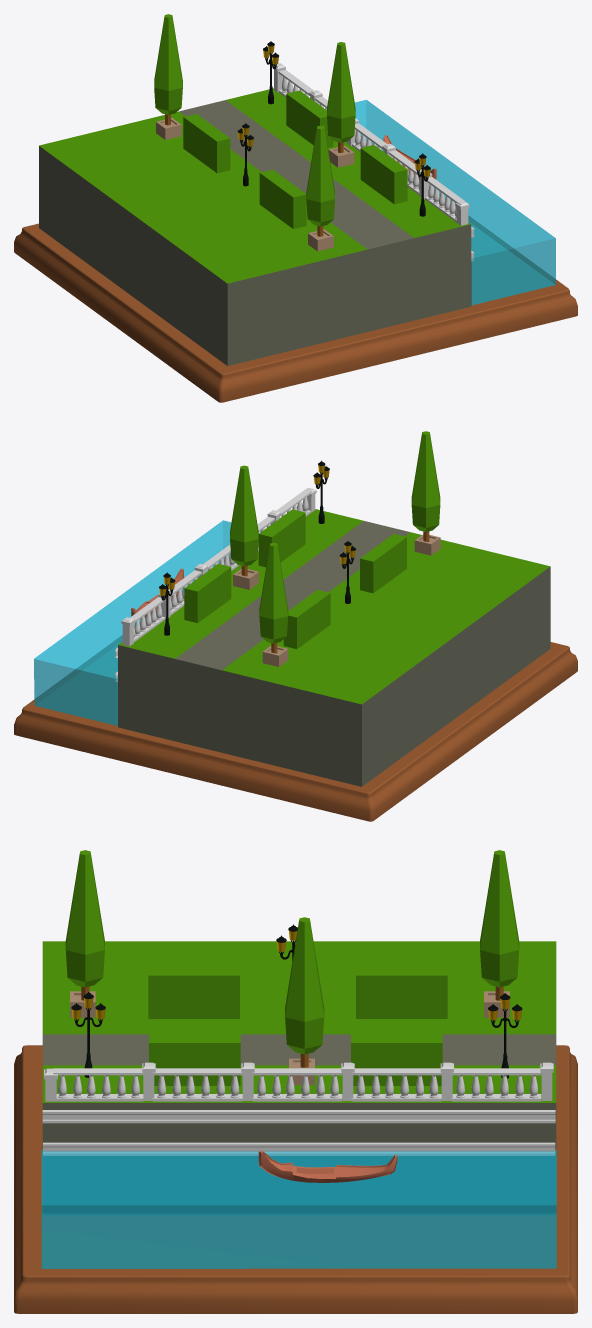
File: Level1.FBX
3 renders of one model, top to bottom at view 1: azimuth 30°, elevation 25°; view 2: azimuth 150°, elevation 25°; view 3: azimuth 270°, elevation 25°, orthographic. The views are drawn at different scales.
Parts seen in each view (by area): view 1: Box072, Container001, Component_35_2, Component_89_3, Component_89_4, Component_35_5, Component_92_3; view 2: Box072, Container001, Component_35_2, Component_89_3, Component_89_4, Component_35_5, Component_92_3; view 3: Container001, Box072, Component_35_2, Component_89_3, Component_35_5, Component_89_4, Plane010, Component_92_3, Cylinder077, Cylinder078.
Boxes of the visible parts, left/top/right/bottom form: Box072: left=39, top=88, right=471, bottom=365; Container001: left=14, top=63, right=577, bottom=402; Component_35_2: left=183, top=90, right=407, bottom=204; Component_89_3: left=154, top=14, right=355, bottom=142; Component_89_4: left=306, top=125, right=334, bottom=226; Component_35_5: left=259, top=169, right=306, bottom=228; Component_92_3: left=156, top=118, right=354, bottom=167; Box072: left=118, top=509, right=550, bottom=786; Container001: left=14, top=487, right=577, bottom=821; Component_35_2: left=184, top=509, right=330, bottom=649; Component_89_3: left=230, top=465, right=288, bottom=643; Component_89_4: left=411, top=431, right=440, bottom=531; Component_35_5: left=360, top=534, right=406, bottom=593; Component_92_3: left=233, top=568, right=288, bottom=666; Container001: left=14, top=1045, right=577, bottom=1313; Box072: left=42, top=941, right=556, bottom=1214; Component_35_2: left=149, top=967, right=447, bottom=1085; Component_89_3: left=285, top=850, right=519, bottom=1054; Component_35_5: left=148, top=967, right=239, bottom=1018; Component_89_4: left=65, top=850, right=104, bottom=987; Plane010: left=258, top=1150, right=397, bottom=1182; Component_92_3: left=289, top=991, right=509, bottom=1084; Cylinder077: left=71, top=992, right=105, bottom=1077; Cylinder078: left=488, top=993, right=522, bottom=1078.
Size of the model in its own units: 277 by 166 by 277.
